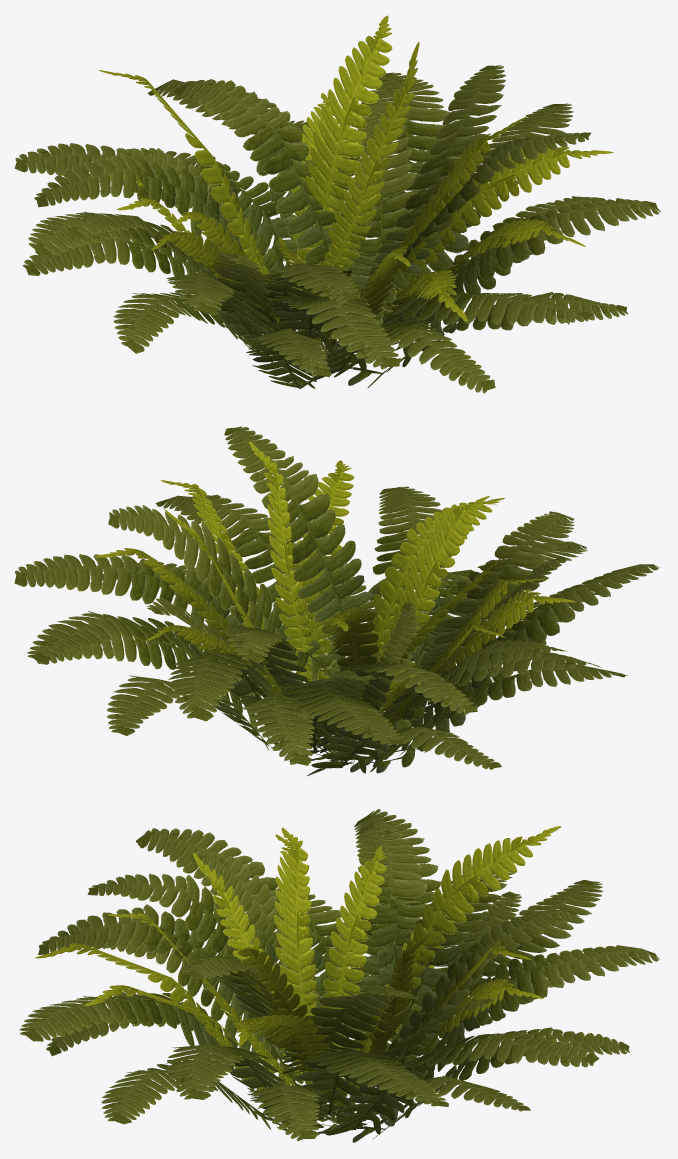
File: PNW Plant_Sword Fern_Large_512.glb
3 renders of one model, top to bottom at view 1: azimuth 30°, elevation 25°; view 2: azimuth 150°, elevation 25°; view 3: azimuth 270°, elevation 25°, orthographic. The views are drawn at different scales.
Visible parts, largest first — view 1: Plant_Sword Fern_Large_512; view 2: Plant_Sword Fern_Large_512; view 3: Plant_Sword Fern_Large_512.
Part boxes in pixels (bbox=[...]): Plant_Sword Fern_Large_512: bbox=[14, 15, 660, 393]; Plant_Sword Fern_Large_512: bbox=[14, 426, 659, 775]; Plant_Sword Fern_Large_512: bbox=[19, 809, 660, 1142].
Bounding box in the file's own units: 2.97 × 1.31 × 2.93.
Materials: 1 (1 with a texture image).
